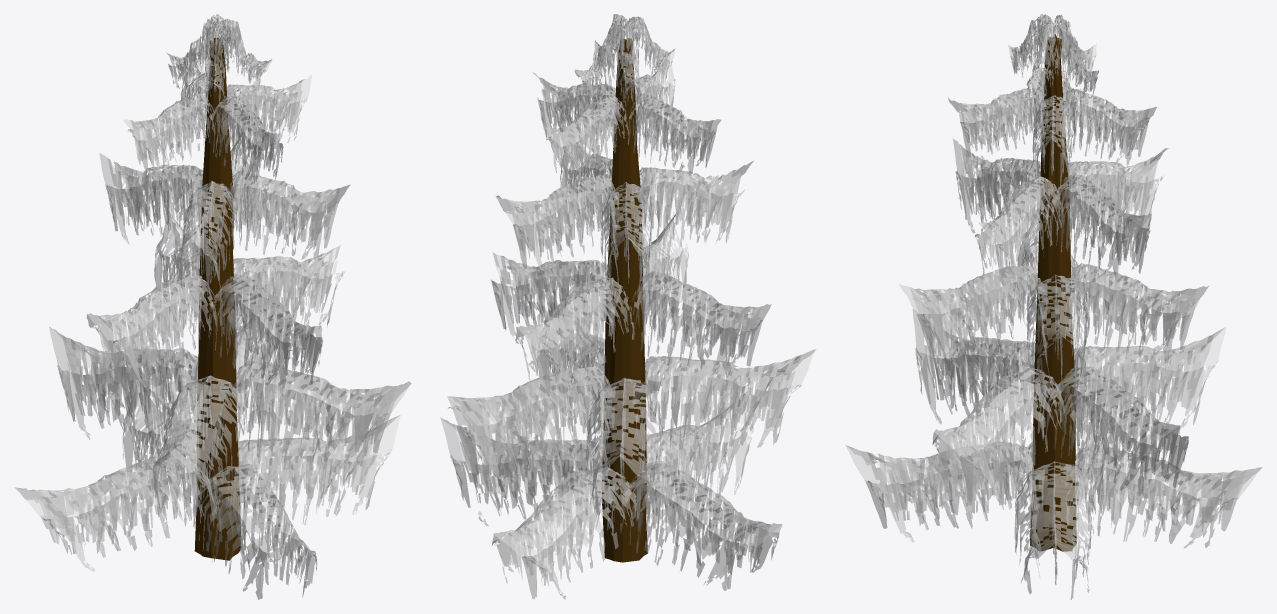
The model's file is pine tree.fbx.
The picture shows the model from 3 angles, left to right: view 1: azimuth 30°, elevation 25°; view 2: azimuth 150°, elevation 25°; view 3: azimuth 270°, elevation 25°; orthographic projection.
Visible parts, largest first — view 1: Cylinder.094; view 2: Cylinder.094; view 3: Cylinder.094.
Boxes of the visible parts, left/top/right/bottom form: Cylinder.094: left=14, top=14, right=411, bottom=599; Cylinder.094: left=440, top=14, right=816, bottom=599; Cylinder.094: left=845, top=14, right=1262, bottom=599.
Bounding box in the file's own units: 862 × 1207 × 864.
